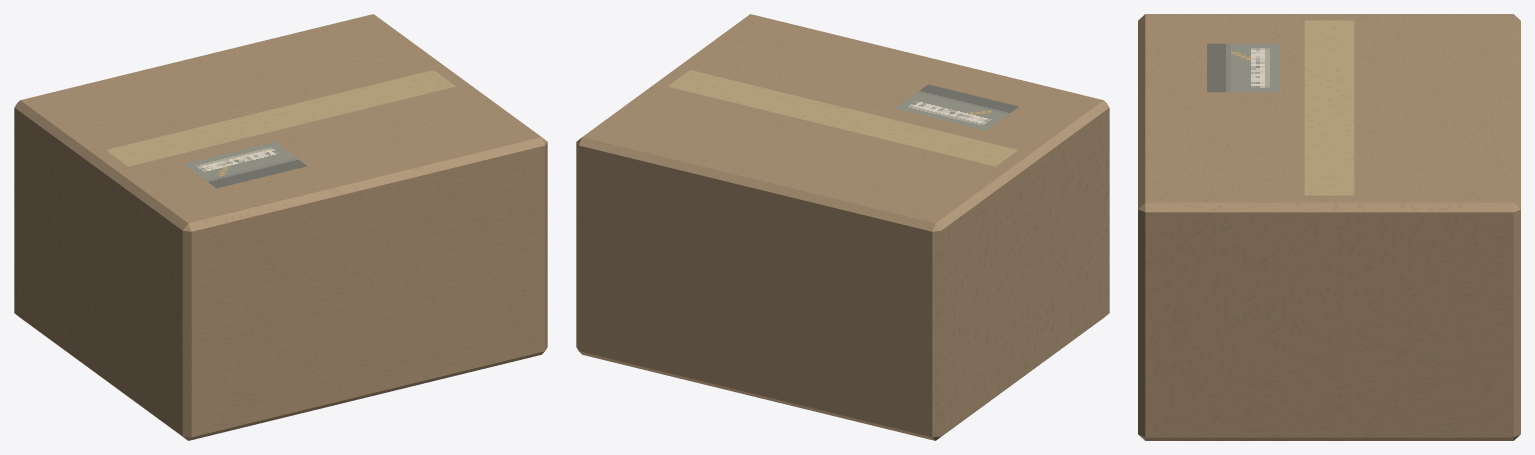
The model's file is box_medium.glb.
The picture shows the model from 3 angles, left to right: view 1: azimuth 30°, elevation 25°; view 2: azimuth 150°, elevation 25°; view 3: azimuth 270°, elevation 25°; orthographic projection. The views are drawn at different scales.
Visible parts, largest first — view 1: block_cardboard box, block_packing tape, block_shipping label; view 2: block_cardboard box, block_packing tape, block_shipping label; view 3: block_cardboard box, block_packing tape, block_shipping label.
Part boxes in pixels (x1,y1,x2,y2): block_cardboard box: [14, 14, 547, 440]; block_packing tape: [106, 70, 455, 166]; block_shipping label: [183, 142, 307, 188]; block_cardboard box: [576, 14, 1109, 440]; block_packing tape: [668, 70, 1017, 166]; block_shipping label: [895, 84, 1018, 130]; block_cardboard box: [1138, 14, 1520, 440]; block_packing tape: [1304, 20, 1354, 195]; block_shipping label: [1207, 43, 1279, 92].
Size of the model in its own units: 0.51 by 0.2914 by 0.4233.
1 material, 1 textured.
